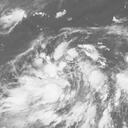cyclone: (28, 49, 96, 110)
